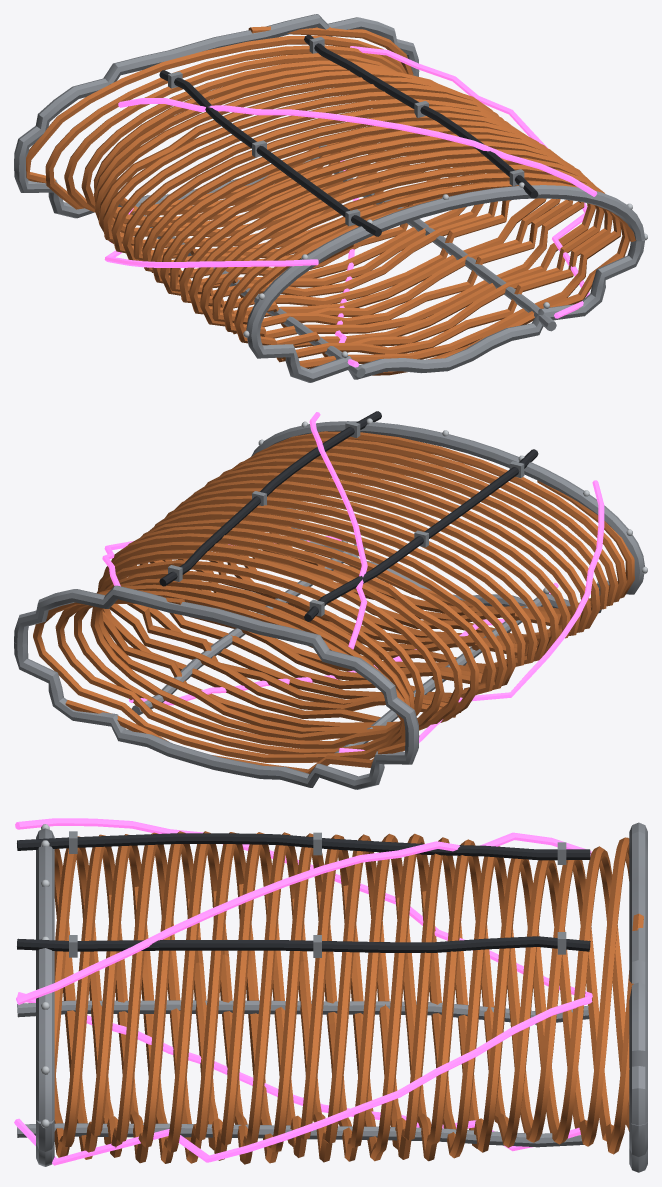
File: vortex_engine_lg.fbx
The picture shows the model from 3 angles, top to bottom: view 1: azimuth 30°, elevation 25°; view 2: azimuth 150°, elevation 25°; view 3: azimuth 270°, elevation 25°; orthographic projection. The views are drawn at different scales.
Parts seen in each view (by area): view 1: Engine_Legendary; view 2: Engine_Legendary; view 3: Engine_Legendary.
Part boxes in pixels (<box>): Engine_Legendary: <box>14,14,647,382</box>; Engine_Legendary: <box>14,411,647,789</box>; Engine_Legendary: <box>14,818,647,1172</box>.
Size of the model in its own units: 80.1 by 32.81 by 79.93.
